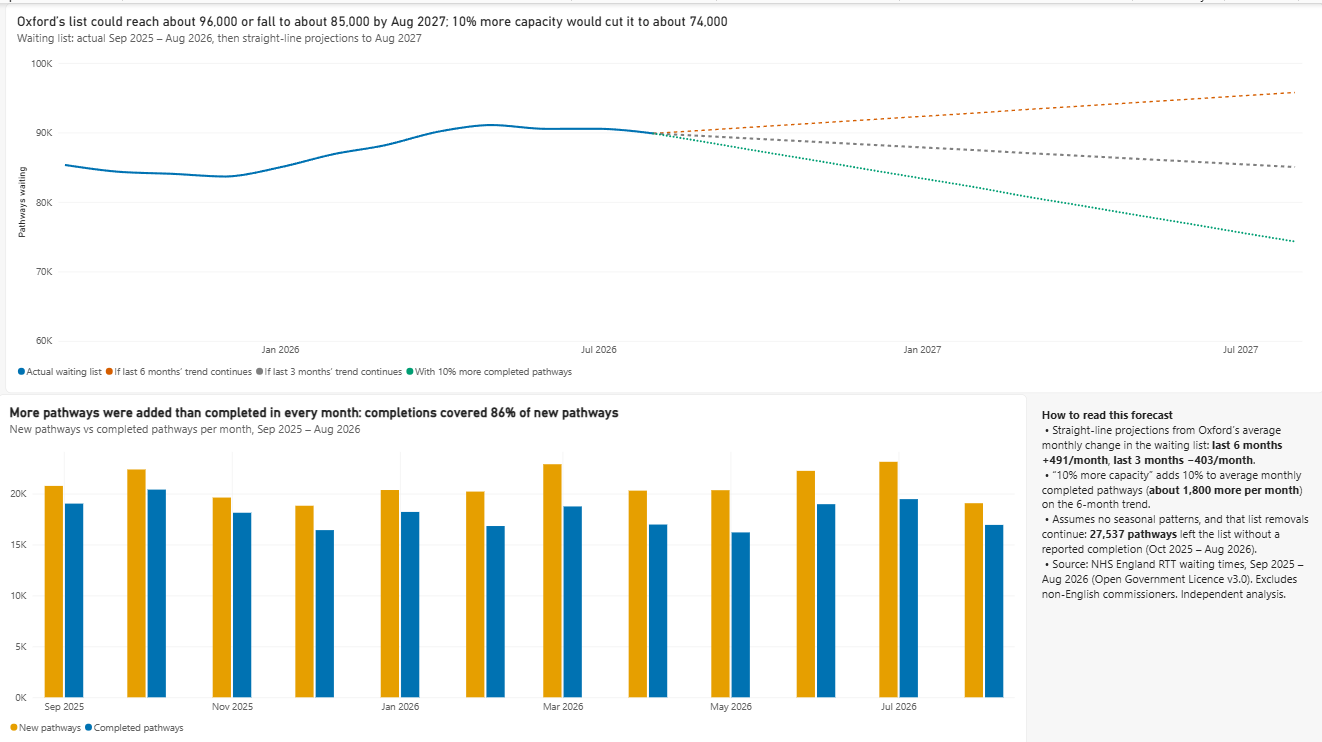

Layout of this report page (visuals, bound fields, positions):
{"tool":"powerbi","page":{"name":"Forecast","canvas":[1920,1080],"ordinal":2},"visuals":[{"type":"lineChart","title":"Oxford’s list could reach about 96,000 or fall to about 85,000 by Aug 2027; 10% more capacity would cut it to about 74,000","fields":{"Category":["oxford_forecast.month"],"Y":["Sum(oxford_forecast.actual)","Sum(oxford_forecast.forecast_6m)","Sum(oxford_forecast.forecast_3m)","Sum(oxford_forecast.forecast_cap10)"]},"box":[10.3,0,1910.1,564.6],"z":0},{"type":"clusteredColumnChart","title":"More pathways were added than completed in every month: completions covered 86% of new pathways","fields":{"Category":["oxford_specialty_month.month"],"Y":["oxford_specialty_month.Demand (new referrals)","oxford_specialty_month.Capacity (treated)"]},"box":[0,566.4,1489.4,513.9],"z":1},{"type":"textbox","box":[1511.1,584.5,394.5,494],"z":2}]}

Visuals, with their boxes in screenshot pixels (x1, y1, x2, y2), scaled from the page's 1920x1080 canvas onto the 1322x742 screenshot:
"Oxford’s list could reach about 96,000 or fall to about 85,000 by Aug 2027; 10% more capacity would cut it to about 74,000" lineChart: 7, 0, 1321, 388
"More pathways were added than completed in every month: completions covered 86% of new pathways" clusteredColumnChart: 0, 389, 1026, 741
textbox: 1040, 402, 1312, 741
